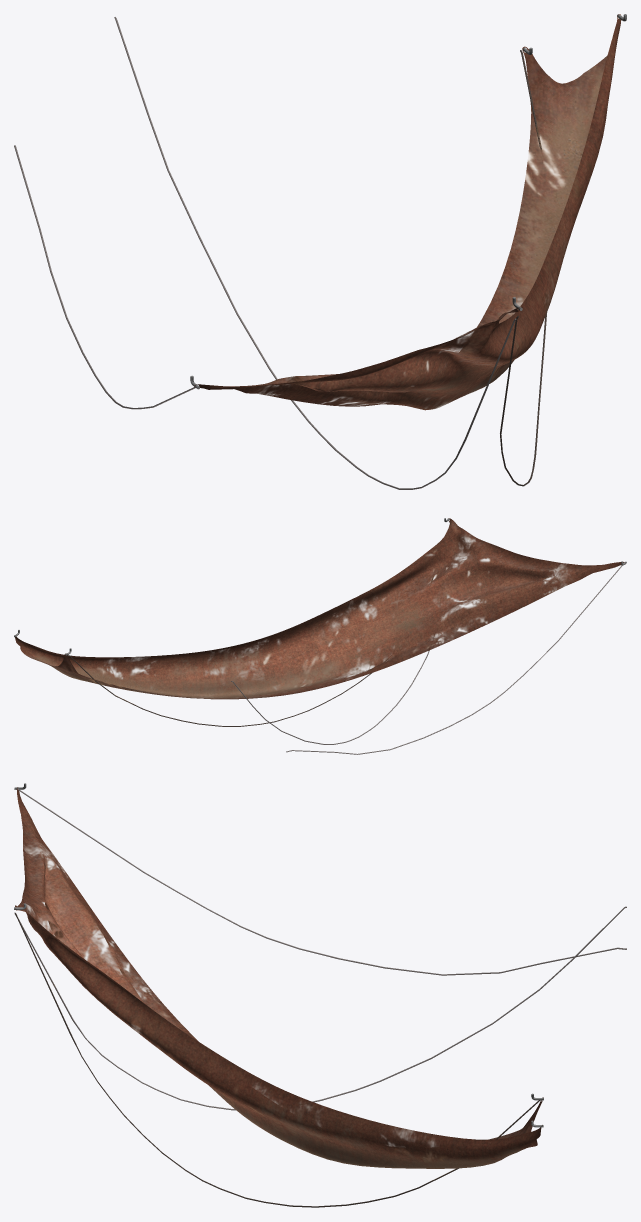
The model's file is xi_dsp_awning_01.gltf.
3 renders of one model, top to bottom at view 1: azimuth 30°, elevation 25°; view 2: azimuth 150°, elevation 25°; view 3: azimuth 270°, elevation 25°, orthographic. The views are drawn at different scales.
Parts seen in each view (by area): view 1: xi_dsp_awning_01; view 2: xi_dsp_awning_01; view 3: xi_dsp_awning_01.
Part boxes in pixels (left/top/right/bottom): xi_dsp_awning_01: left=14, top=14, right=626, bottom=489; xi_dsp_awning_01: left=14, top=518, right=626, bottom=754; xi_dsp_awning_01: left=14, top=783, right=626, bottom=1207.
Size of the model in its own units: 12.51 by 4.74 by 11.29.
1 material, 1 textured.
